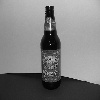beer: (36, 4, 66, 91)
